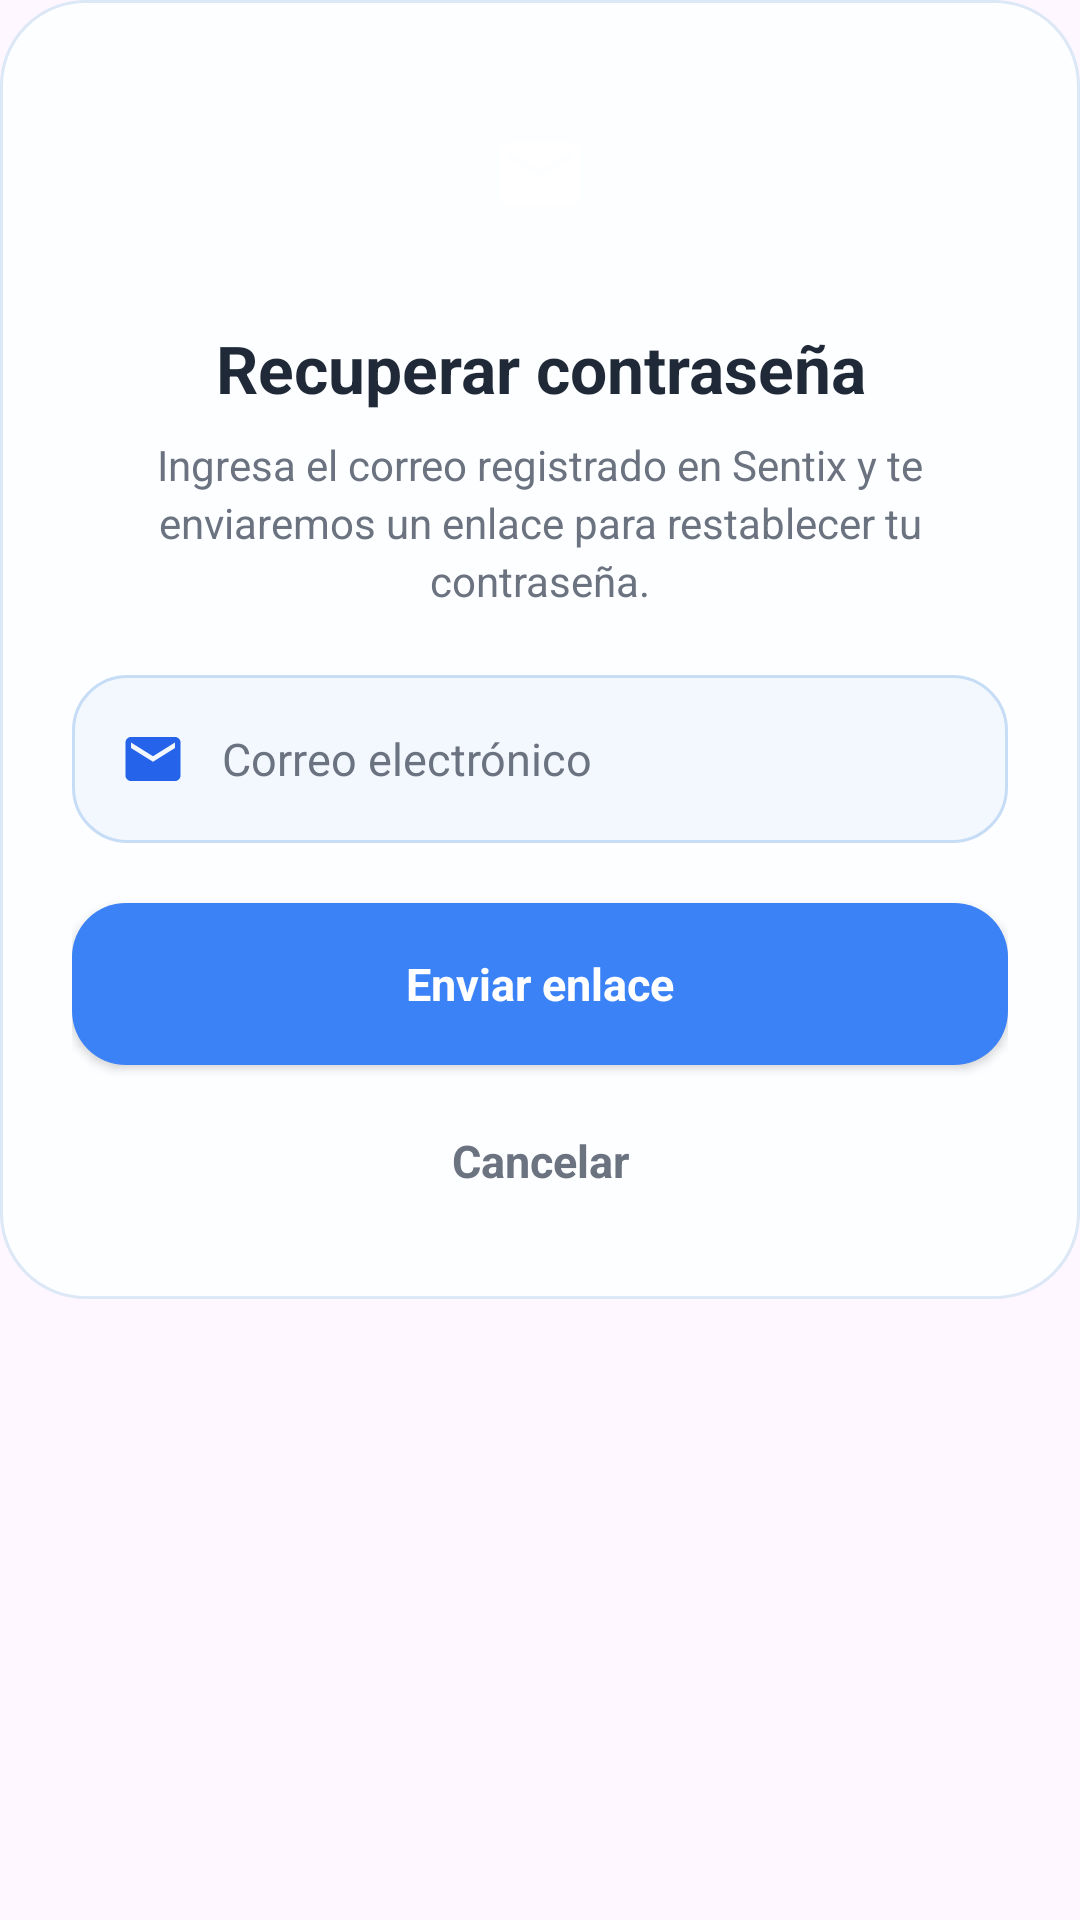

Icons on this 1080w x 1920h Android screen, each with its box as detection(x1, y1, x2, y2):
email: detection(125, 737, 181, 781)
